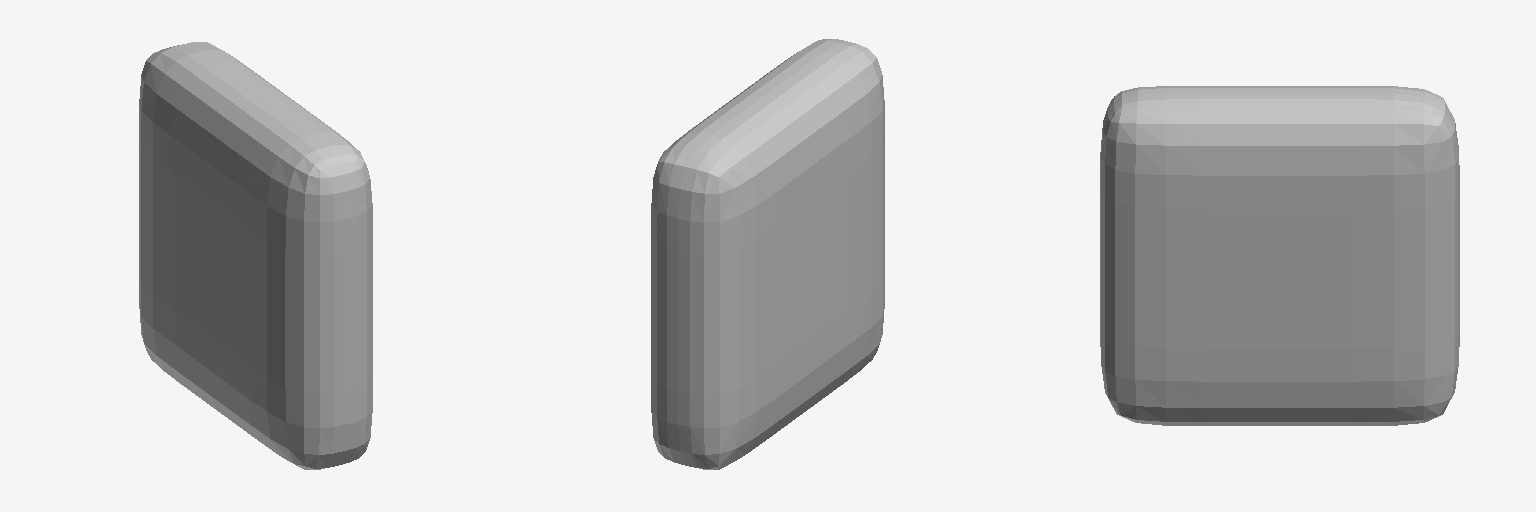
Rendered from steelycube_inverted.obj.
3 renders of one model, left to right at view 1: azimuth 30°, elevation 25°; view 2: azimuth 150°, elevation 25°; view 3: azimuth 270°, elevation 25°, orthographic.
Visible parts, largest first — view 1: pCube1; view 2: pCube1; view 3: pCube1.
Part boxes in pixels (left/top/right/bottom): pCube1: left=139, top=42, right=372, bottom=469; pCube1: left=651, top=39, right=884, bottom=469; pCube1: left=1100, top=86, right=1459, bottom=425.
Size of the model in its own units: 0.3 by 1 by 1.